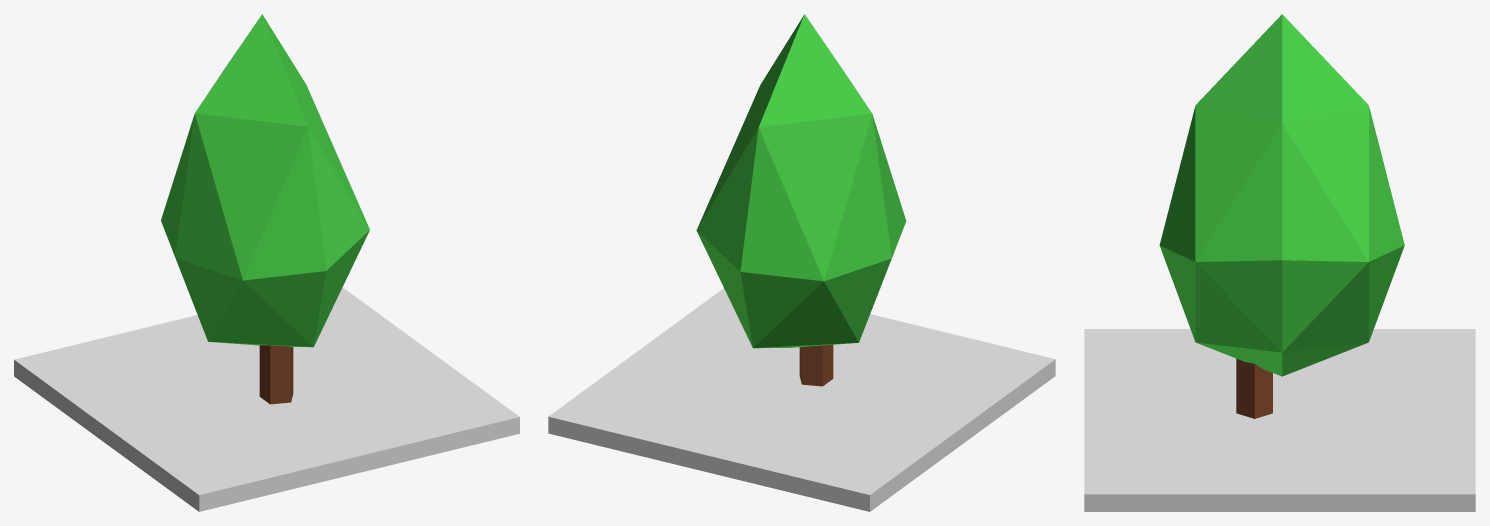
The model's file is Wood_4 03.FBX.
3 views of the same model, side by side, from view 1: azimuth 30°, elevation 25°; view 2: azimuth 150°, elevation 25°; view 3: azimuth 270°, elevation 25° (orthographic). The views are drawn at different scales.
Parts seen in each view (by area): view 1: Box012, GeoSphere003, Cylinder003; view 2: Box012, GeoSphere003, Cylinder003; view 3: Box012, GeoSphere003, Cylinder003.
Part boxes in pixels (x1,y1,x2,y2): Box012: (14,287,519,511); GeoSphere003: (161,14,369,347); Cylinder003: (259,345,293,404); Box012: (548,288,1055,511); GeoSphere003: (696,14,906,348); Cylinder003: (799,344,833,386); Box012: (1084,329,1475,511); GeoSphere003: (1159,14,1404,376); Cylinder003: (1236,358,1272,418).
Size of the model in its own units: 1 by 1.17 by 1.
Materials: 2 (2 with a texture image).
